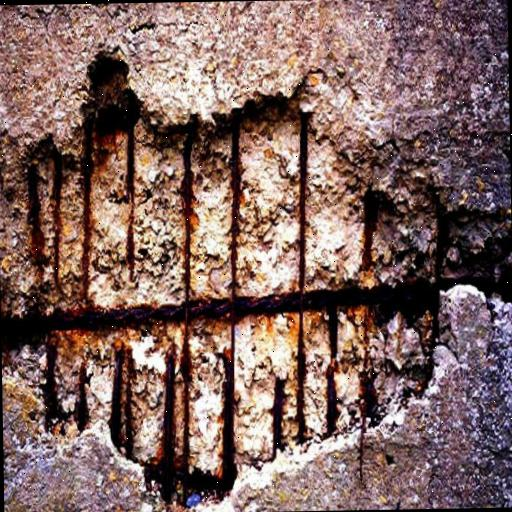spalling: (2, 51, 512, 512)
